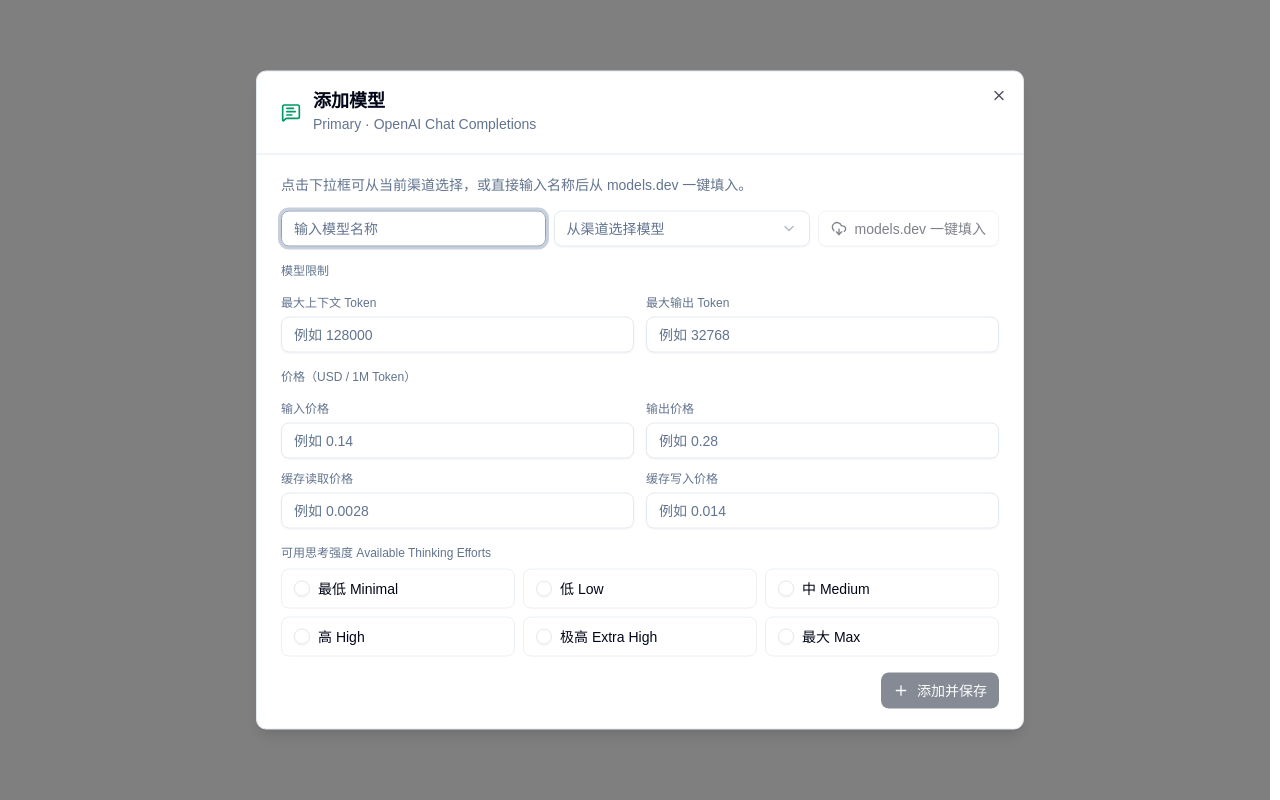
Test case: ModelPickerDialog › fetches channel models when the official select is opened
Click the dropdown labelled "从渠道选择模型". click: click(682, 228)
box: [554,210,810,246]
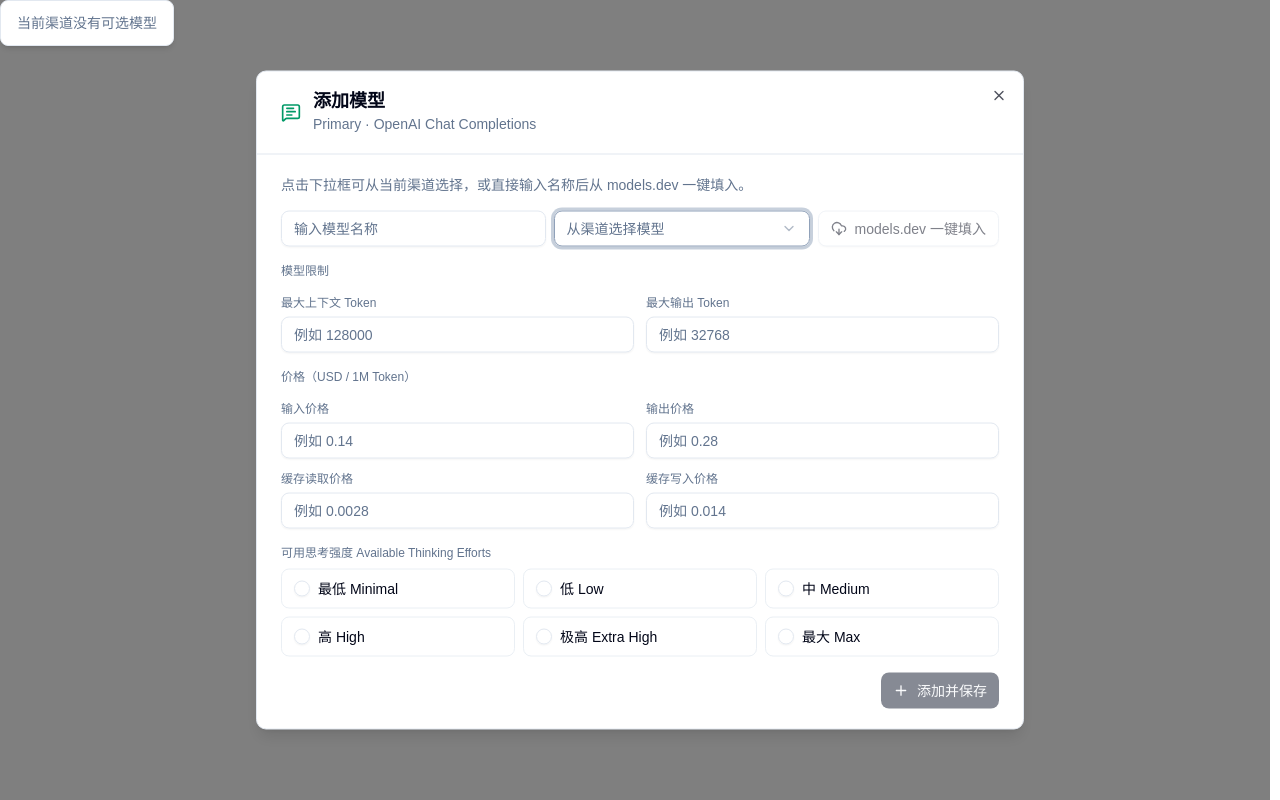
Expected: the text "当前渠道没有可选模型" is shown, [17,15,157,31]
